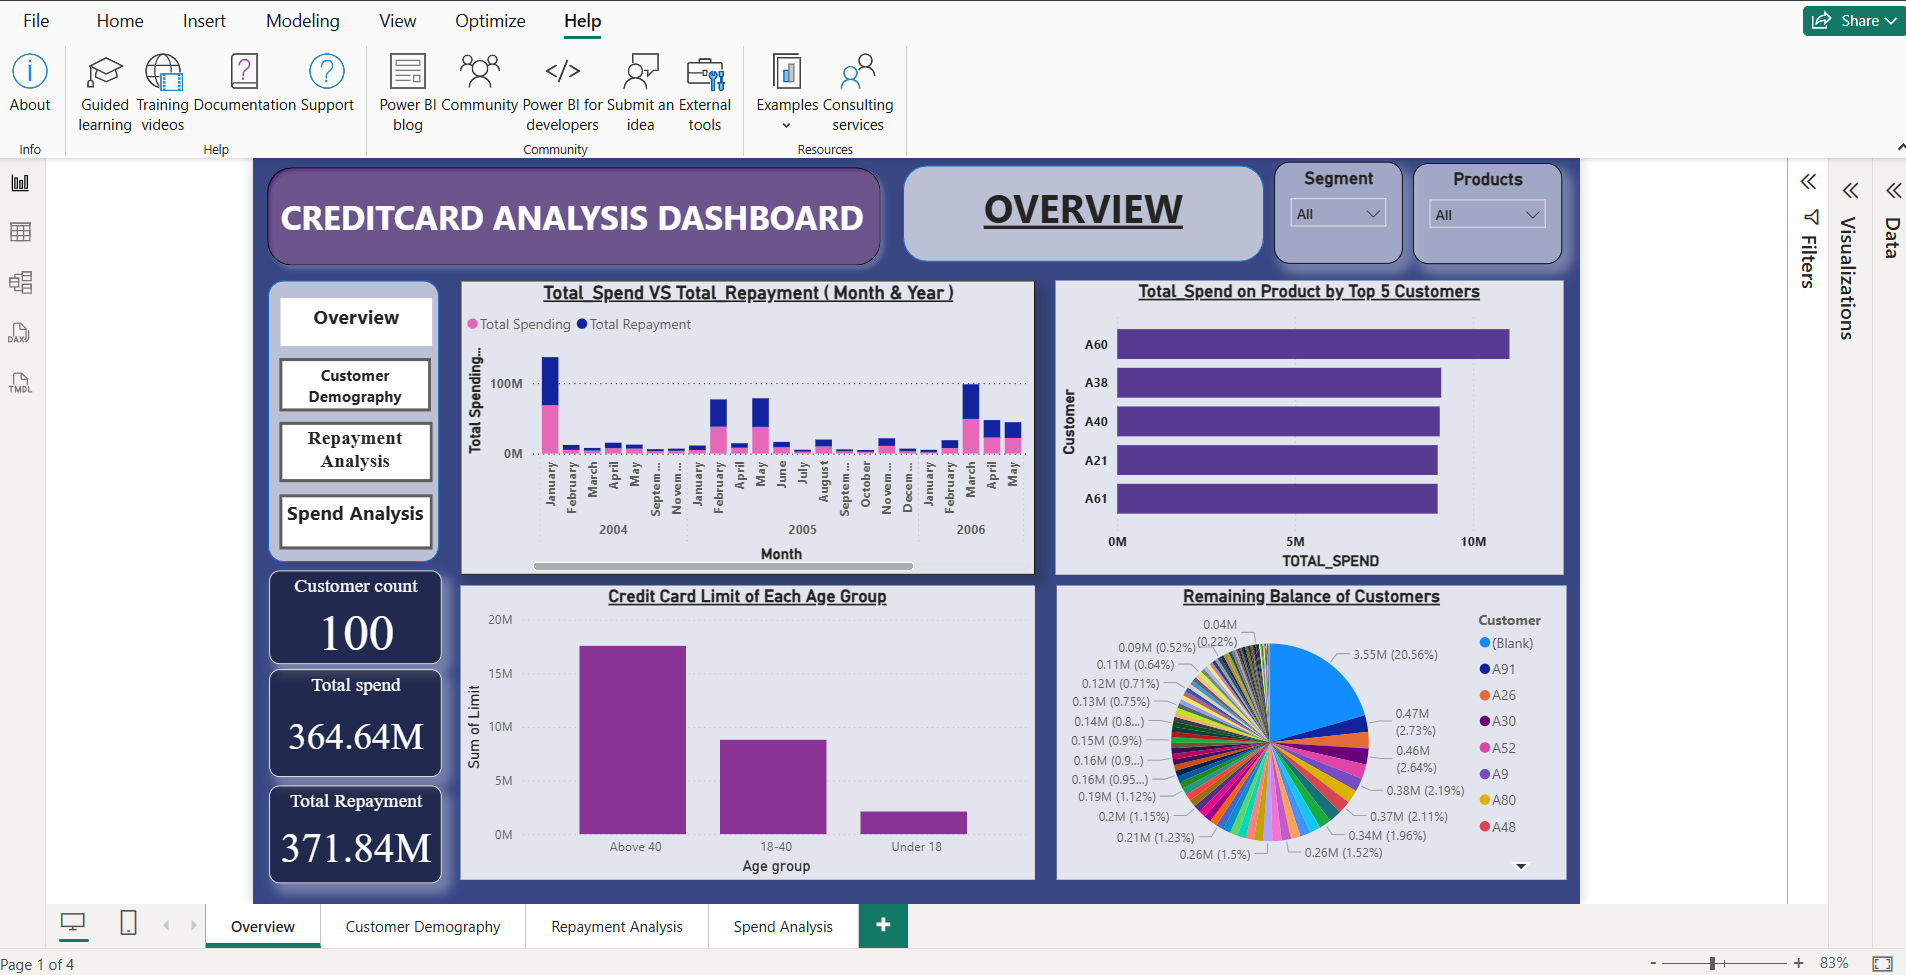

The dashboard page shown, as its layout file describes it:
{"tool":"powerbi","page":{"name":"Overview","canvas":[1280,720],"ordinal":0},"visuals":[{"type":"slicer","title":"Segment","fields":{"Values":["Customer Acqusition.Segment"]},"box":[986.2,3.8,123.8,98.8],"z":0},{"type":"slicer","title":"Products","fields":{"Values":["Customer Acqusition.Product"]},"box":[1120,5,143.8,97.5],"z":1000},{"type":"shape","box":[4.3,0,610,112.9],"z":2000},{"type":"card","title":"Customer count","fields":{"Values":["Customer Acqusition.customer_count"]},"box":[16,398,166,90],"z":3000},{"type":"shape","box":[627.1,7.1,348.6,92.9],"z":4000},{"type":"textbox","box":[639.4,18.3,323.9,70.4],"z":5000},{"type":"textbox","box":[21.1,29.6,593,59.2],"z":6000},{"type":"shape","box":[15,118.3,165,271.7],"z":7000},{"type":"textbox","box":[25.1,194,146.5,50.7],"z":8000},{"type":"textbox","box":[25.1,254.6,146.5,57.7],"z":9000},{"type":"textbox","box":[25.3,324.9,146.9,53],"z":10000},{"type":"actionButton","box":[25,193.3,146.7,51.7],"z":11000},{"type":"textbox","box":[26.7,135,146.7,46.7],"z":12000},{"type":"actionButton","box":[25,325,148.3,53.3],"z":13000},{"type":"actionButton","box":[25,255,148.3,58.3],"z":14000},{"type":"card","title":"Total spend","fields":{"Values":["spend.TOTAL_SPEND"]},"box":[16,494,166,104],"z":15000},{"type":"card","title":"Total Repayment","fields":{"Values":["Repayment.Total_repayment"]},"box":[16,606,166,94],"z":16000},{"type":"columnChart","title":"Total_Spend VS Total_Repayment ( Month & Year )","fields":{"Y":["spend.TOTAL_SPEND","Repayment.Total_repayment"],"Category":["Repayment.Month.Variation.Date Hierarchy.Year","Repayment.Month.Variation.Date Hierarchy.Month"]},"box":[200,118,554,284],"z":17000},{"type":"clusteredBarChart","title":"Total_Spend on Product by Top 5 Customers","fields":{"Y":["spend.TOTAL_SPEND"],"Category":["spend.Customer"]},"box":[774,118,490,284],"z":18000},{"type":"columnChart","title":"Credit Card Limit of Each Age Group","fields":{"Y":["Sum(Customer Acqusition.Limit)"],"Category":["Customer Acqusition.Age group"]},"box":[200,412,554,284],"z":20000},{"type":"pieChart","title":"Remaining Balance of Customers","fields":{"Category":["Customer Acqusition.Customer"],"Y":["Customer Acqusition.RemainingBalance"]},"box":[776,412,492,284],"z":21000}]}

Visuals, with their boxes on the page's 1280x720 design canvas (x1, y1, x2, y2). These are canvas units, not pixel positions in the 1906x975 screenshot, which may show the page scaled, cropped or inside an application window:
"Segment" slicer: 986 4 1110 103
"Products" slicer: 1120 5 1264 102
shape: 4 0 614 113
"Customer count" card: 16 398 182 488
shape: 627 7 976 100
textbox: 639 18 963 89
textbox: 21 30 614 89
shape: 15 118 180 390
textbox: 25 194 172 245
textbox: 25 255 172 312
textbox: 25 325 172 378
actionButton: 25 193 172 245
textbox: 27 135 173 182
actionButton: 25 325 173 378
actionButton: 25 255 173 313
"Total spend" card: 16 494 182 598
"Total Repayment" card: 16 606 182 700
"Total_Spend VS Total_Repayment ( Month & Year )" columnChart: 200 118 754 402
"Total_Spend on Product by Top 5 Customers" clusteredBarChart: 774 118 1264 402
"Credit Card Limit of Each Age Group" columnChart: 200 412 754 696
"Remaining Balance of Customers" pieChart: 776 412 1268 696
